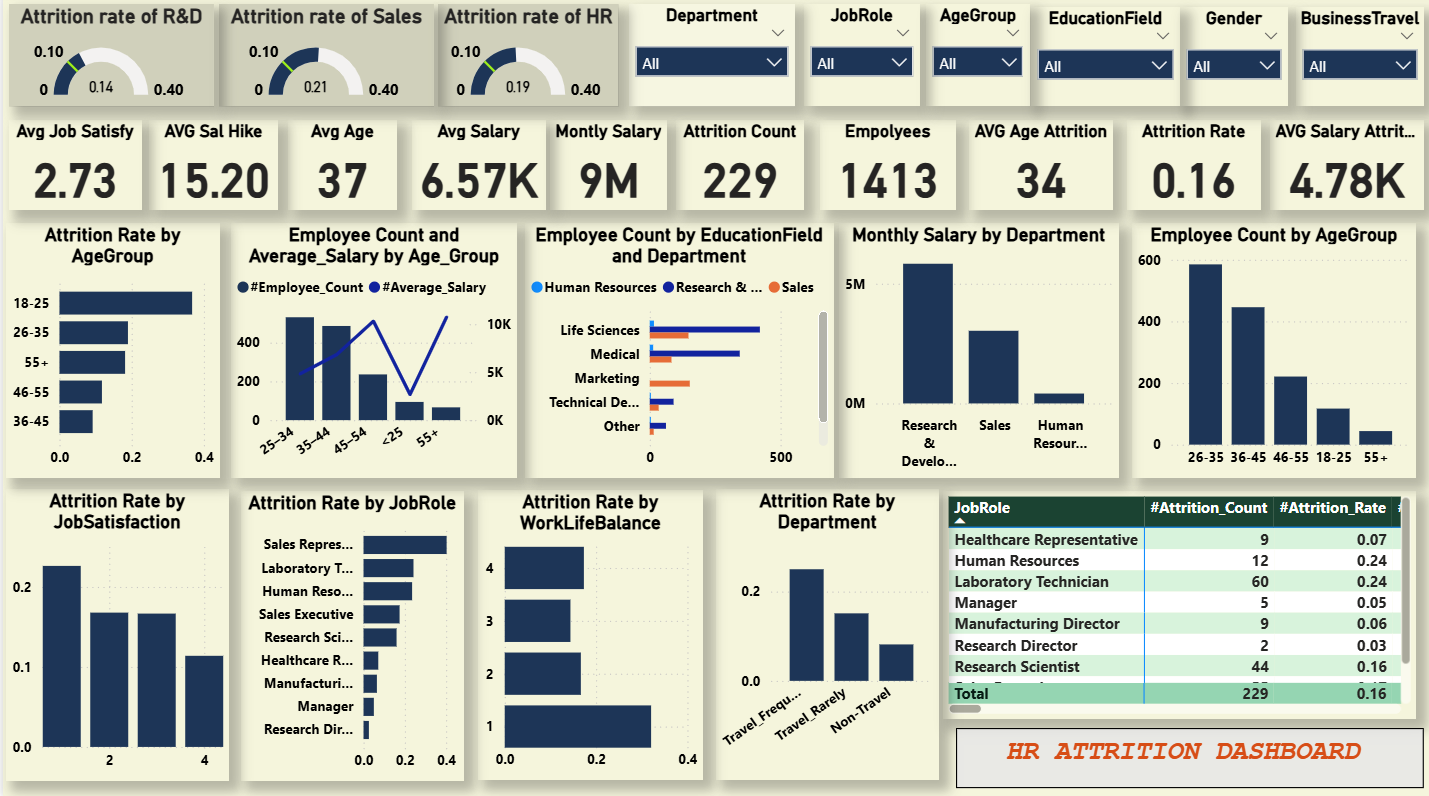

What the dashboard file says about the page in this screenshot:
{"tool":"powerbi","page":{"name":"HR","canvas":[1280,720],"ordinal":0},"visuals":[{"type":"clusteredBarChart","title":"Employee Count by EducationField and Department","fields":{"Y":["HR_Analytics.#Employee_Count"],"Category":["HR_Analytics.EducationField"],"Series":["HR_Analytics.Department"]},"box":[468.5,205,276.9,229],"z":0},{"type":"columnChart","title":"Employee Count by AgeGroup","fields":{"Y":["HR_Analytics.#Employee_Count"],"Category":["HR_Analytics.AgeGroup"]},"box":[1013.7,205,254.9,229],"z":1000},{"type":"clusteredColumnChart","title":"Monthly Salary by Department","fields":{"Y":["HR_Analytics.#Monthly_Salary"],"Category":["HR_Analytics.Department"]},"box":[750.2,205,251,229],"z":2000},{"type":"pivotTable","fields":{"Values":["HR_Analytics.#Attrition_Count","HR_Analytics.#Attrition_Rate","HR_Analytics.#Attrition_Rate_By_JobRole","HR_Analytics.#Average_Age","HR_Analytics.#Average_Age_(Attrition)","HR_Analytics.#Average_Job_Satisfaction","HR_Analytics.#Average_HourlyRate","HR_Analytics.#Average_PerformanceRating","HR_Analytics.#Average_Salary","HR_Analytics.#Average_Salary_(Attrition)","HR_Analytics.#Average_Training_Times","HR_Analytics.#Average_Salary_Hike"],"Rows":["HR_Analytics.JobRole"]},"box":[843.9,445.3,424.6,204.7],"z":3000},{"type":"lineClusteredColumnComboChart","title":"Employee Count and Average_Salary by Age_Group","fields":{"Y2":["HR_Analytics.#Average_Salary"],"Category":["HR_Analytics.#Age_Group"],"Y":["HR_Analytics.#Employee_Count"]},"box":[205,205,256.8,229],"z":4000},{"type":"card","title":"Empolyees","fields":{"Values":["HR_Analytics.#Employee_Count"]},"box":[733.9,111.9,121.7,81.4],"z":5000},{"type":"card","title":"Avg Salary","fields":{"Values":["HR_Analytics.#Average_Salary"]},"box":[366.9,111.9,119.8,81.4],"z":6000},{"type":"card","title":"Montly Salary","fields":{"Values":["HR_Analytics.#Monthly_Salary"]},"box":[491.5,111.9,105.4,81.4],"z":7000},{"type":"card","title":"Avg Age","fields":{"Values":["HR_Analytics.#Average_Age"]},"box":[255.8,111.9,97.7,81.4],"z":8000},{"type":"card","title":"AVG Sal Hike","fields":{"Values":["HR_Analytics.#Average_Salary_Hike"]},"box":[131.3,111.9,115.9,81.4],"z":9000},{"type":"card","title":"Avg Job Satisfy","fields":{"Values":["HR_Analytics.#Average_Job_Satisfaction"]},"box":[5.7,112.1,118.8,81.4],"z":10000},{"type":"slicer","title":"Department","fields":{"Values":["HR_Analytics.Department"]},"box":[562,8.1,149,91.6],"z":11000},{"type":"slicer","title":"AgeGroup","fields":{"Values":["HR_Analytics.AgeGroup"]},"box":[828.6,8.1,93.4,91.6],"z":12000},{"type":"slicer","title":"JobRole","fields":{"Values":["HR_Analytics.JobRole"]},"box":[719.1,8.1,104.1,91.6],"z":13000},{"type":"slicer","title":"EducationField","fields":{"Values":["HR_Analytics.EducationField"]},"box":[922.9,10.8,133.8,88.9],"z":14000},{"type":"slicer","title":"BusinessTravel","fields":{"Values":["HR_Analytics.BusinessTravel"]},"box":[1160.8,10.8,114.9,88.9],"z":15000},{"type":"slicer","title":"Gender","fields":{"Values":["HR_Analytics.Gender"]},"box":[1056.7,10.8,97,88.9],"z":16000},{"type":"card","title":"Attrition Count","fields":{"Values":["HR_Analytics.#Attrition_Count"]},"box":[604.6,111.9,115,81.4],"z":17000},{"type":"card","title":"Attrition Rate","fields":{"Values":["HR_Analytics.#Attrition_Rate"]},"box":[1008.9,111.9,119.8,81.4],"z":18000},{"type":"card","title":"AVG Salary Attrition","fields":{"Values":["HR_Analytics.#Average_Salary_(Attrition)"]},"box":[1137.2,111.9,138,81.4],"z":19000},{"type":"card","title":"AVG Age Attrition","fields":{"Values":["HR_Analytics.#Average_Age_(Attrition)"]},"box":[867.1,111.9,129.3,81.4],"z":20000},{"type":"clusteredBarChart","title":"Attrition Rate by AgeGroup","fields":{"Category":["HR_Analytics.AgeGroup"],"Y":["HR_Analytics.#Attrition_Rate"]},"box":[2.9,205,191.6,229],"z":21000},{"type":"clusteredColumnChart","title":"Attrition Rate by Department","fields":{"Y":["HR_Analytics.#Attrition_Rate"],"Category":["HR_Analytics.BusinessTravel"]},"box":[640.1,443.5,200,261.2],"z":22000},{"type":"barChart","title":"Attrition Rate by WorkLifeBalance","fields":{"Category":["HR_Analytics.WorkLifeBalance"],"Y":["HR_Analytics.#Attrition_Rate"]},"box":[426.4,444.4,202,260.3],"z":23000},{"type":"clusteredBarChart","title":"Attrition Rate by JobRole","fields":{"Category":["HR_Analytics.JobRole"],"Y":["HR_Analytics.#Attrition_Rate"]},"box":[213.7,445.3,200,260.3],"z":24000},{"type":"clusteredColumnChart","title":"Attrition Rate by JobSatisfaction","fields":{"Y":["HR_Analytics.#Attrition_Rate"],"Category":["HR_Analytics.JobSatisfaction"]},"box":[2.9,443.6,200,261.6],"z":25000},{"type":"gauge","title":"Attrition rate of R&D","fields":{"Y":["HR_Analytics.#Attrition_Rate"],"TargetValue":["HR_Analytics.#Attrition_Target"],"MinValue":["HR_Analytics.#Min"],"MaxValue":["HR_Analytics.#Max"]},"box":[5.4,8.1,184,91.6],"z":26000},{"type":"gauge","title":"Attrition rate of HR","fields":{"Y":["HR_Analytics.#Attrition_Rate"],"TargetValue":["HR_Analytics.#Attrition_Target"],"MinValue":["HR_Analytics.#Min"],"MaxValue":["HR_Analytics.#Max"]},"box":[390.5,8.1,162.5,91.6],"z":27000},{"type":"gauge","title":"Attrition rate of Sales","fields":{"Y":["HR_Analytics.#Attrition_Rate"],"TargetValue":["HR_Analytics.#Attrition_Target"],"MinValue":["HR_Analytics.#Min"],"MaxValue":["HR_Analytics.#Max"]},"box":[193.9,8.1,193,91.6],"z":28000},{"type":"textbox","box":[855.6,658.1,420.1,53.9],"z":29000}]}

Visuals, with their boxes in screenshot pixels (x1, y1, x2, y2), scaled from the page's 1280x720 canvas onto the 1429x796 screenshot:
"Employee Count by EducationField and Department" clusteredBarChart: 523,227,832,480
"Employee Count by AgeGroup" columnChart: 1132,227,1416,480
"Monthly Salary by Department" clusteredColumnChart: 838,227,1118,480
pivotTable - HR_Analytics.#Attrition_Count x HR_Analytics.#Attrition_Rate: 942,492,1416,719
"Employee Count and Average_Salary by Age_Group" lineClusteredColumnComboChart: 229,227,516,480
"Empolyees" card: 819,124,955,214
"Avg Salary" card: 410,124,543,214
"Montly Salary" card: 549,124,666,214
"Avg Age" card: 286,124,395,214
"AVG Sal Hike" card: 147,124,276,214
"Avg Job Satisfy" card: 6,124,139,214
"Department" slicer: 627,9,794,110
"AgeGroup" slicer: 925,9,1029,110
"JobRole" slicer: 803,9,919,110
"EducationField" slicer: 1030,12,1180,110
"BusinessTravel" slicer: 1296,12,1424,110
"Gender" slicer: 1180,12,1288,110
"Attrition Count" card: 675,124,803,214
"Attrition Rate" card: 1126,124,1260,214
"AVG Salary Attrition" card: 1270,124,1424,214
"AVG Age Attrition" card: 968,124,1112,214
"Attrition Rate by AgeGroup" clusteredBarChart: 3,227,217,480
"Attrition Rate by Department" clusteredColumnChart: 715,490,938,779
"Attrition Rate by WorkLifeBalance" barChart: 476,491,702,779
"Attrition Rate by JobRole" clusteredBarChart: 239,492,462,780
"Attrition Rate by JobSatisfaction" clusteredColumnChart: 3,490,227,780
"Attrition rate of R&D" gauge: 6,9,211,110
"Attrition rate of HR" gauge: 436,9,617,110
"Attrition rate of Sales" gauge: 216,9,432,110
textbox: 955,728,1424,787
